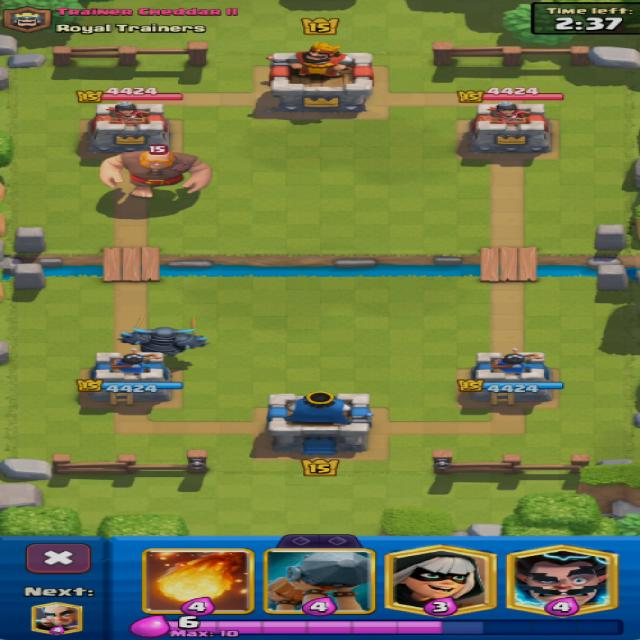Enemy-Giant: (100, 146, 207, 197)
Enemy-KingTower: (270, 43, 372, 114)
Enemy-PrincessTower: (87, 102, 169, 154), (470, 103, 550, 152)
Player-KingTower: (266, 392, 372, 455)
Player-PEKKA: (120, 315, 206, 355)
Player-PrincessTower: (458, 349, 562, 406), (77, 349, 182, 404)
